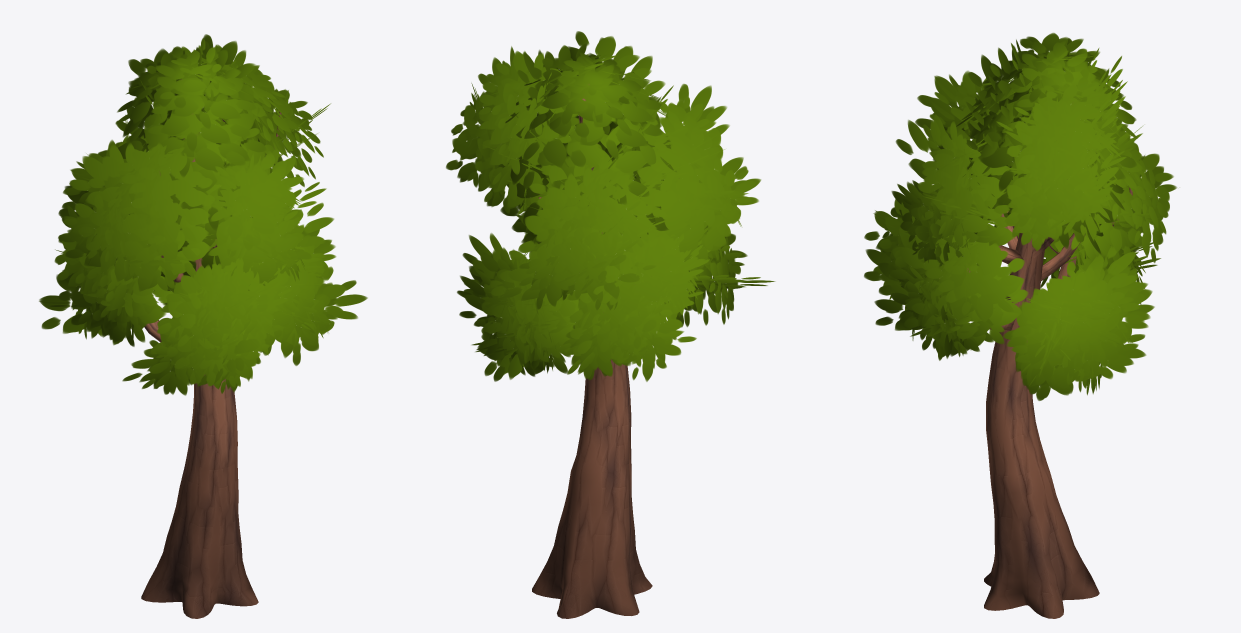
File: tree.glb
3 renders of one model, left to right at view 1: azimuth 30°, elevation 25°; view 2: azimuth 150°, elevation 25°; view 3: azimuth 270°, elevation 25°, orthographic. The views are drawn at different scales.
Parts seen in each view (by area): view 1: CommonTree_1; view 2: CommonTree_1; view 3: CommonTree_1.
Part boxes in pixels (x1,y1,x2,y2): CommonTree_1: [39, 34, 367, 618]; CommonTree_1: [446, 31, 775, 618]; CommonTree_1: [864, 33, 1176, 618].
Bounding box in the file's own units: 4.31 × 7.26 × 4.58.
Materials: 2 (2 with a texture image).
